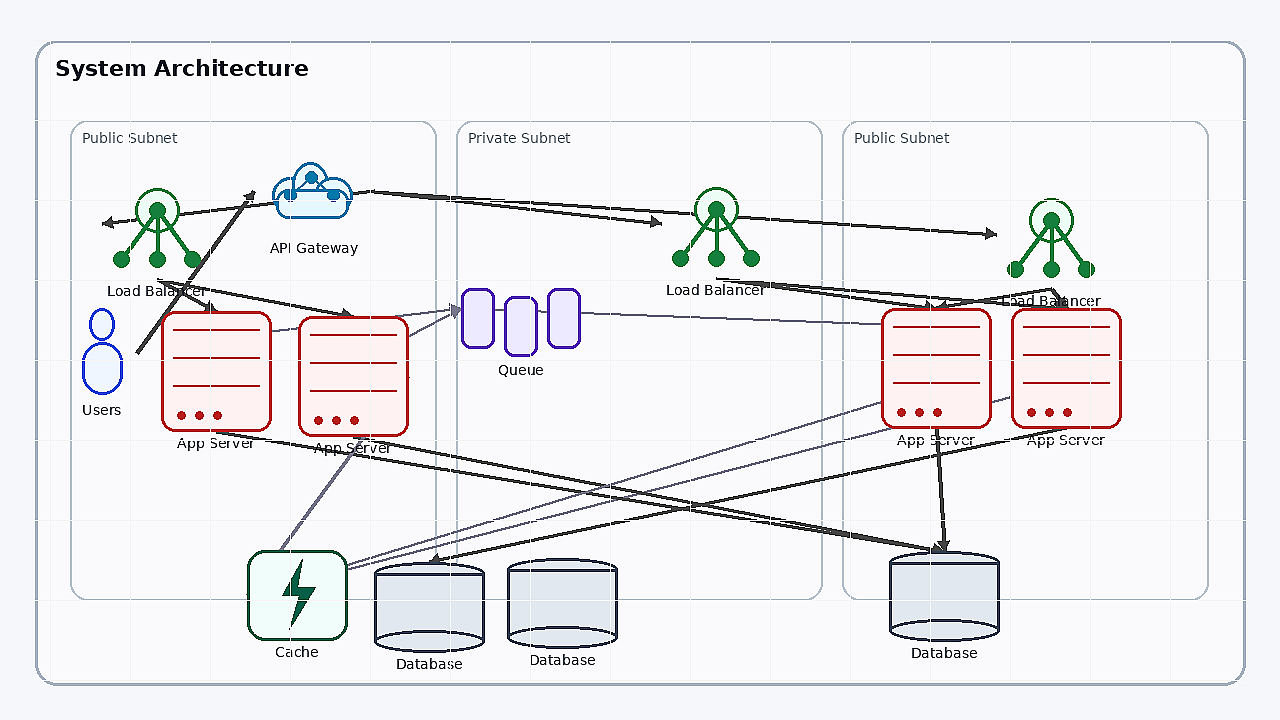API Gateway: (254, 146, 374, 236)
Application Server: (1011, 308, 1121, 428), (161, 311, 271, 431), (298, 316, 408, 436), (881, 308, 991, 428)
Cache: (247, 550, 347, 640)
Database: (374, 562, 484, 652), (889, 551, 999, 641), (507, 558, 617, 648)
Load Balancer: (996, 179, 1106, 289), (661, 168, 771, 278), (102, 169, 212, 279)
Message Queue: (461, 288, 581, 358)
User: (67, 308, 137, 398)
